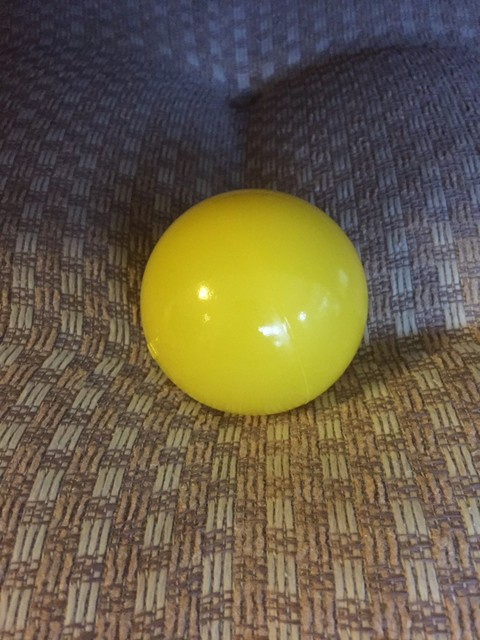ball: (142, 191, 368, 416)
